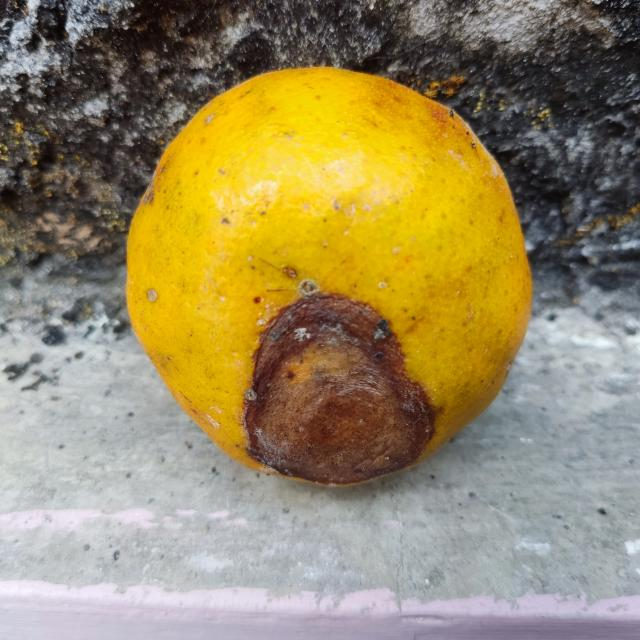orange: (121, 65, 532, 492)
